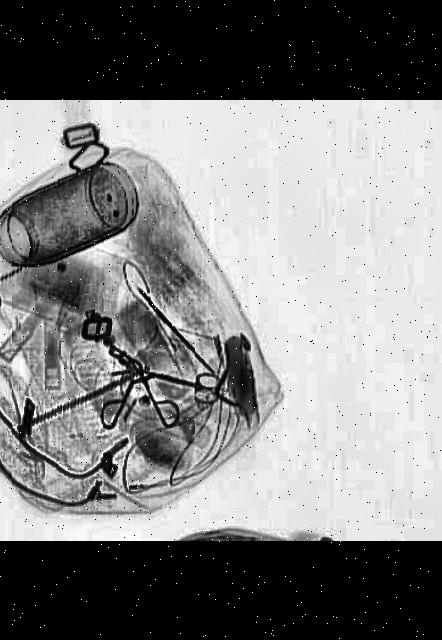Scissors: (134, 355, 228, 405)
